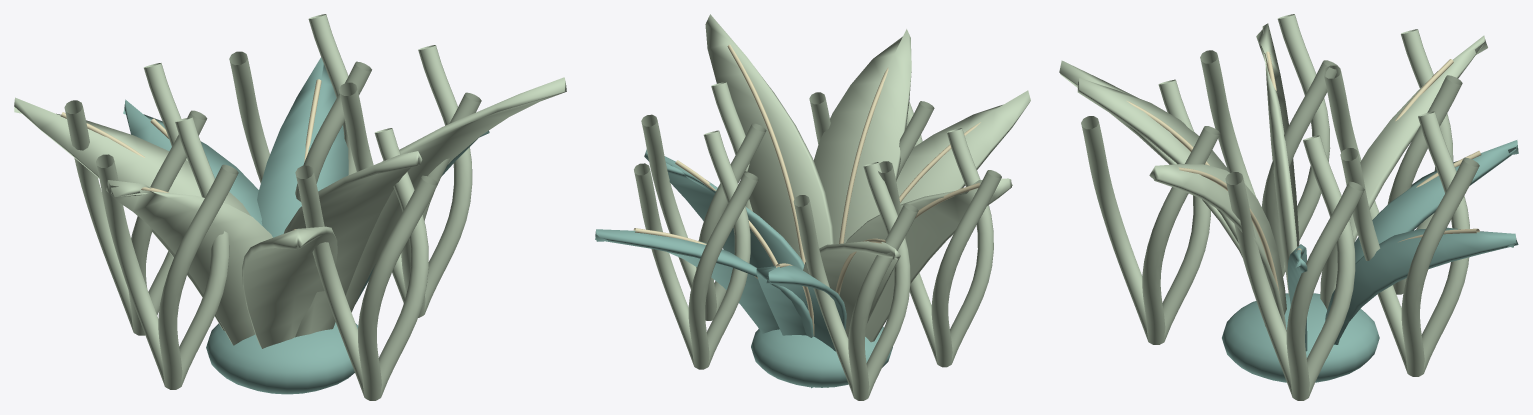
Rendered from bio_mist_leaf_04_near.glb.
3 views of the same model, side by side, from view 1: azimuth 30°, elevation 25°; view 2: azimuth 150°, elevation 25°; view 3: azimuth 270°, elevation 25° (orthographic). The views are drawn at different scales.
Visible parts, largest first — view 1: Spiral filament.012, Spiral filament.006, Cupped condensate leaf.004, Cupped condensate leaf.007, Spiral filament.003, Spiral filament, Root rosette, Cupped condensate leaf.002, Cupped condensate leaf.003, Cupped condensate leaf.005, Spiral filament.009, Cupped condensate leaf.001 (+1 smaller); view 2: Cupped condensate leaf.002, Cupped condensate leaf.005, Spiral filament.003, Spiral filament.009, Spiral filament.012, Spiral filament, Cupped condensate leaf.007, Cupped condensate leaf.004, Cupped condensate leaf.003, Root rosette, Cupped condensate leaf.006, Cupped condensate leaf (+6 smaller); view 3: Spiral filament, Spiral filament.009, Spiral filament.006, Spiral filament.012, Root rosette, Spiral filament.003, Cupped condensate leaf.003, Cupped condensate leaf.001, Cupped condensate leaf.005, Cupped condensate leaf.004, Cupped condensate leaf.002, Cupped condensate leaf.006 (+3 smaller).
Boxes of the visible parts, x1,y1,x2,y2 form: Spiral filament.012: [96, 117, 238, 389]; Spiral filament.006: [295, 128, 437, 400]; Cupped condensate leaf.004: [106, 180, 272, 345]; Cupped condensate leaf.007: [242, 226, 337, 348]; Spiral filament.003: [64, 63, 207, 335]; Spiral filament: [339, 45, 481, 317]; Root rosette: [206, 322, 358, 394]; Cupped condensate leaf.002: [284, 151, 422, 337]; Cupped condensate leaf.003: [257, 57, 348, 237]; Cupped condensate leaf.005: [345, 77, 566, 312]; Spiral filament.009: [229, 14, 371, 201]; Cupped condensate leaf.001: [14, 97, 250, 330]; Cupped condensate leaf.002: [813, 29, 911, 244]; Cupped condensate leaf.005: [705, 14, 833, 257]; Spiral filament.003: [793, 162, 918, 400]; Spiral filament.009: [634, 130, 758, 369]; Spiral filament.012: [878, 128, 1001, 367]; Spiral filament: [641, 82, 766, 320]; Cupped condensate leaf.007: [896, 90, 1030, 204]; Cupped condensate leaf.004: [845, 178, 1012, 342]; Cupped condensate leaf.003: [595, 229, 813, 337]; Root rosette: [751, 327, 892, 387]; Cupped condensate leaf.006: [756, 265, 846, 388]; Cupped condensate leaf: [644, 149, 804, 270]; Spiral filament: [1225, 135, 1364, 400]; Spiral filament.009: [1340, 111, 1479, 376]; Spiral filament.006: [1081, 79, 1220, 344]; Spiral filament.012: [1200, 14, 1338, 276]; Root rosette: [1222, 293, 1379, 382]; Spiral filament.003: [1323, 29, 1462, 294]; Cupped condensate leaf.003: [1325, 227, 1518, 344]; Cupped condensate leaf.001: [1320, 35, 1487, 309]; Cupped condensate leaf.005: [1149, 164, 1286, 331]; Cupped condensate leaf.004: [1256, 23, 1299, 296]; Cupped condensate leaf.002: [1077, 78, 1265, 326]; Cupped condensate leaf.006: [1354, 140, 1518, 263].
Size of the model in its own units: 1.72 by 1.25 by 1.74.
